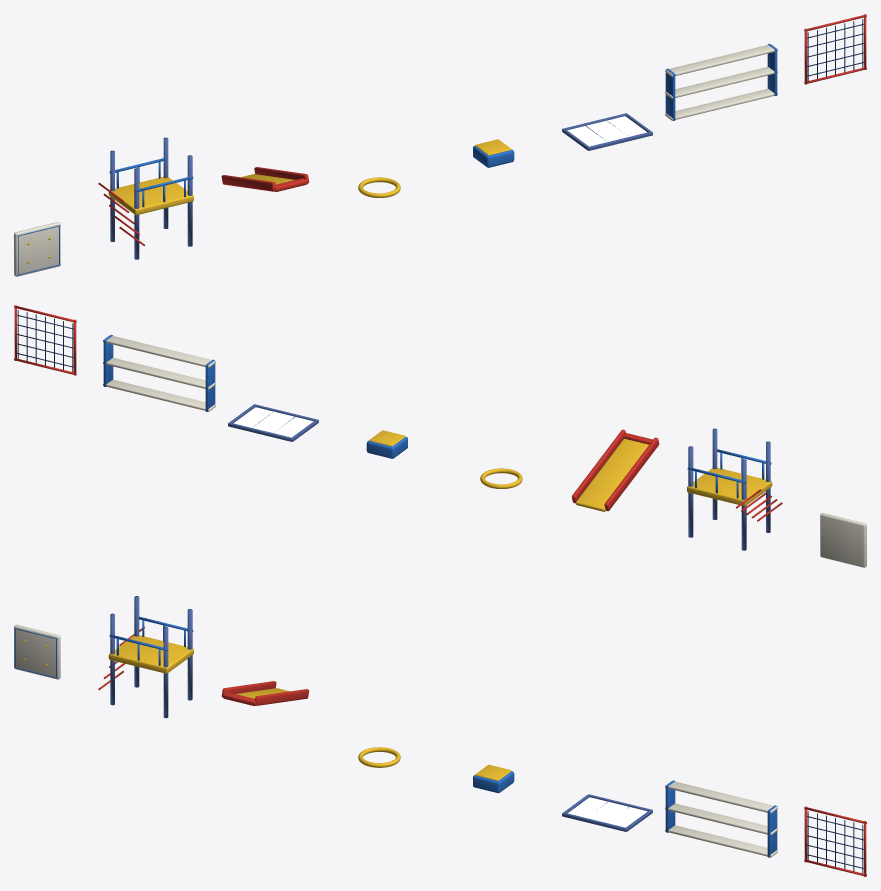
3 renders of one model, top to bottom at view 1: azimuth 30°, elevation 25°; view 2: azimuth 150°, elevation 25°; view 3: azimuth 330°, elevation 25°, orthographic.
Visible parts, largest first — view 1: panel_core, frame_deck, skylight_diffuser, shelf_board.002, shelf_board, shelf_board.001, slide_side_rail, block_body; view 2: panel_core, slide_bed, frame_deck, skylight_diffuser, shelf_board.002, shelf_board, shelf_board.001, slide_side_rail, slide_side_rail.001, block_body; view 3: panel_core, frame_deck, skylight_diffuser, shelf_board.002, shelf_board.001, shelf_board, slide_side_rail.001.
Boxes of the visible parts, left/top/right/bottom form: panel_core: left=14, top=222, right=60, bottom=276; frame_deck: left=108, top=176, right=193, bottom=215; skylight_diffuser: left=567, top=116, right=647, bottom=146; shelf_board.002: left=665, top=44, right=777, bottom=76; shelf_board: left=665, top=88, right=777, bottom=120; shelf_board.001: left=665, top=66, right=777, bottom=98; slide_side_rail: left=221, top=175, right=275, bottom=191; block_body: left=473, top=146, right=514, bottom=167; panel_core: left=820, top=513, right=866, bottom=567; slide_bed: left=575, top=438, right=648, bottom=511; frame_deck: left=687, top=467, right=772, bottom=506; skylight_diffuser: left=233, top=407, right=313, bottom=437; shelf_board.002: left=103, top=335, right=215, bottom=367; shelf_board: left=103, top=379, right=215, bottom=411; shelf_board.001: left=103, top=357, right=215, bottom=389; slide_side_rail: left=604, top=437, right=659, bottom=511; slide_side_rail.001: left=571, top=429, right=625, bottom=503; block_body: left=366, top=437, right=407, bottom=458; panel_core: left=14, top=624, right=60, bottom=679; frame_deck: left=108, top=635, right=193, bottom=673; skylight_diffuser: left=568, top=797, right=647, bottom=827; shelf_board.002: left=665, top=781, right=777, bottom=813; shelf_board.001: left=665, top=803, right=777, bottom=835; shelf_board: left=665, top=825, right=777, bottom=857; slide_side_rail.001: left=255, top=689, right=309, bottom=705.
Bounding box in the file's own units: 22.41 × 2.3 × 2.4.
